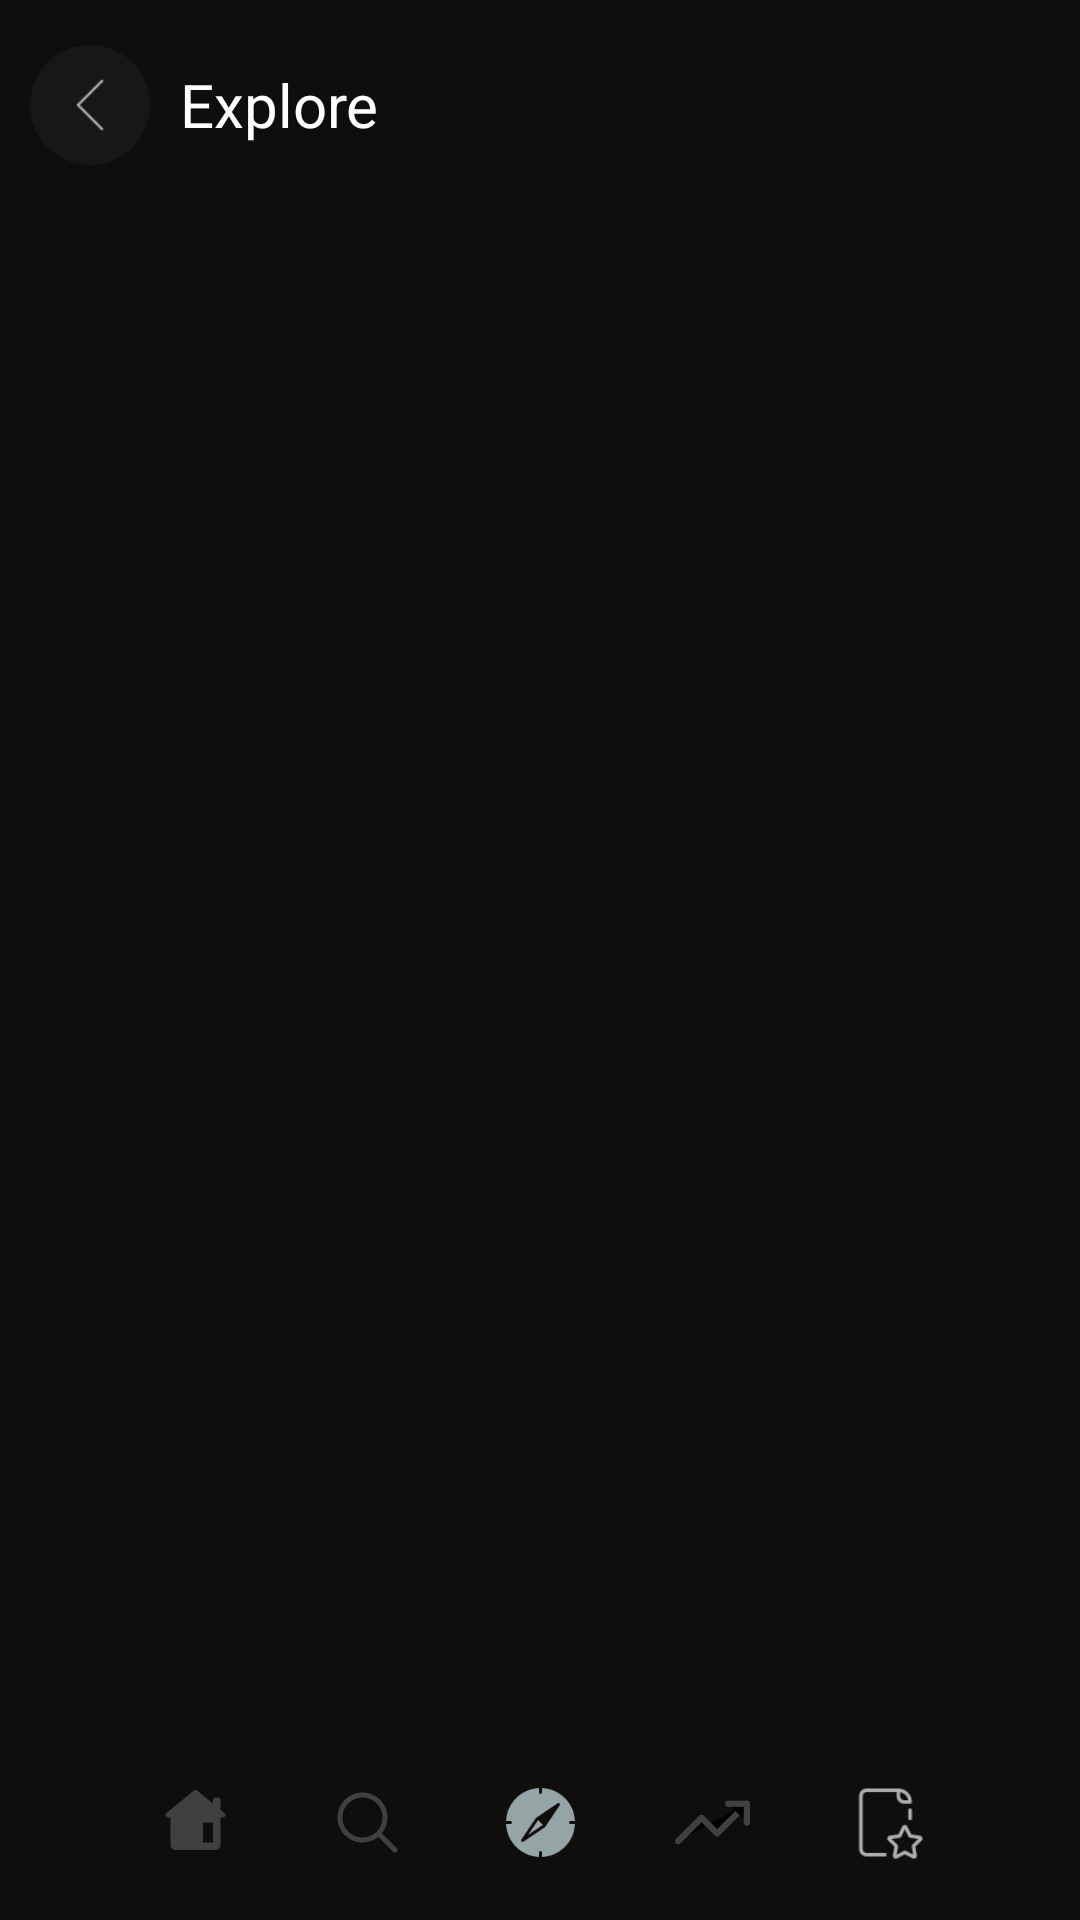

Icons on this 1080px x 1920px Android screen, each with the point to tap as point (x, y):
explore: point (540, 1822)
fav: point (890, 1823)
go back: point (90, 105)
home: point (195, 1820)
search: point (367, 1822)
trending: point (712, 1822)
